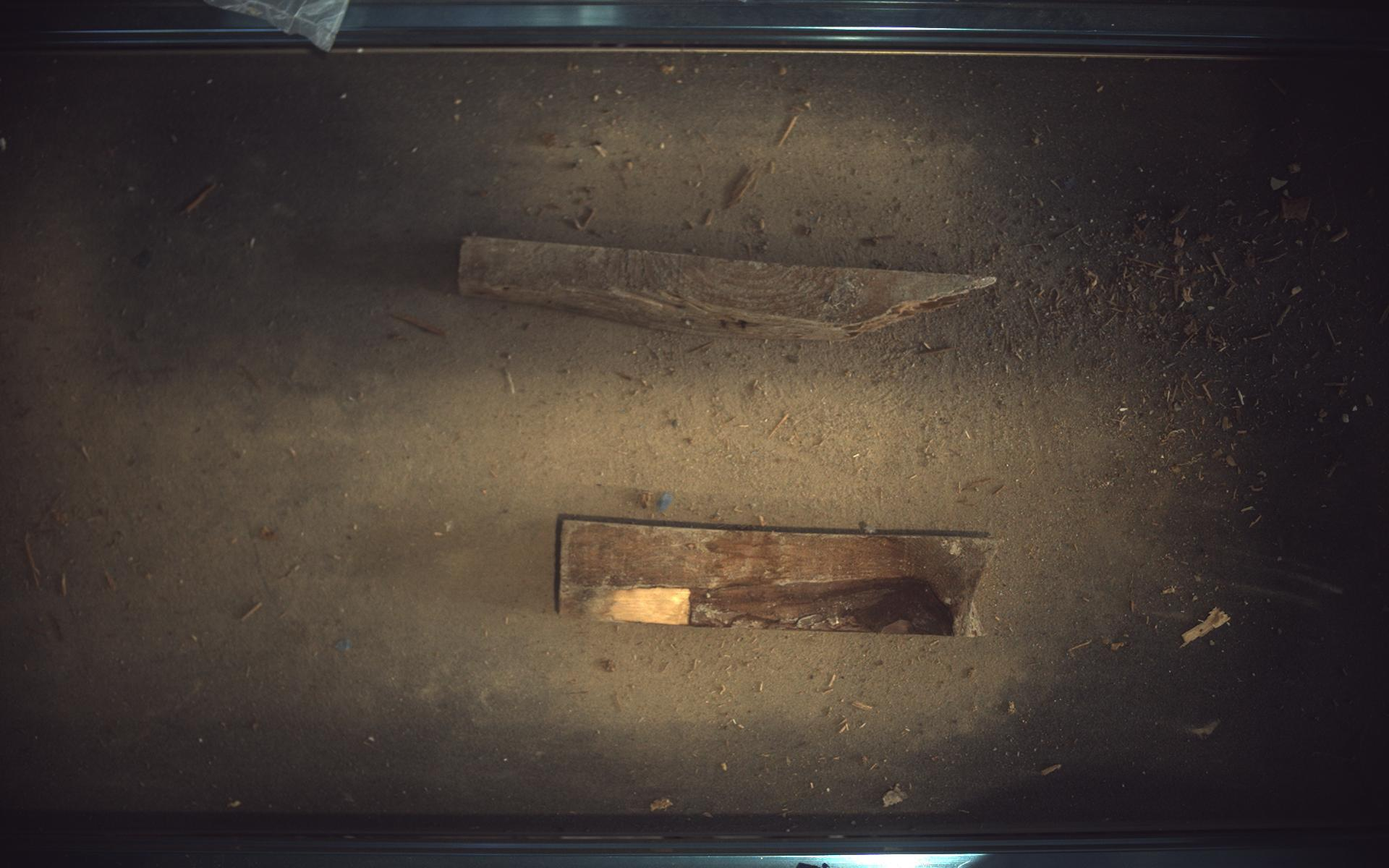wood: (459, 235, 998, 340), (556, 516, 998, 637)
